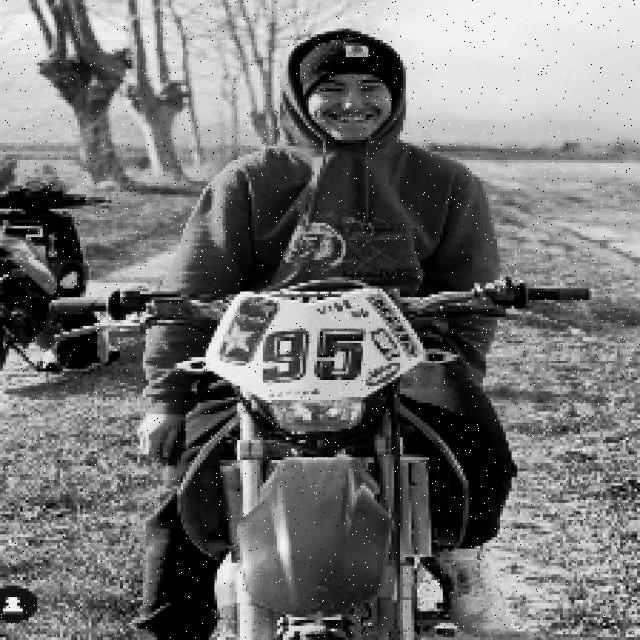Bike: (144, 269, 470, 639)
